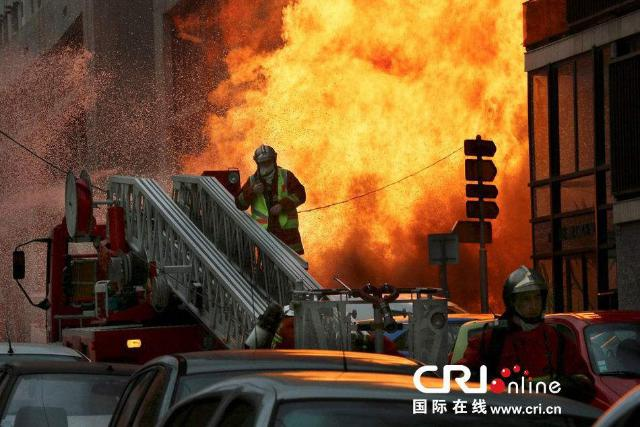fire: (222, 1, 532, 278)
